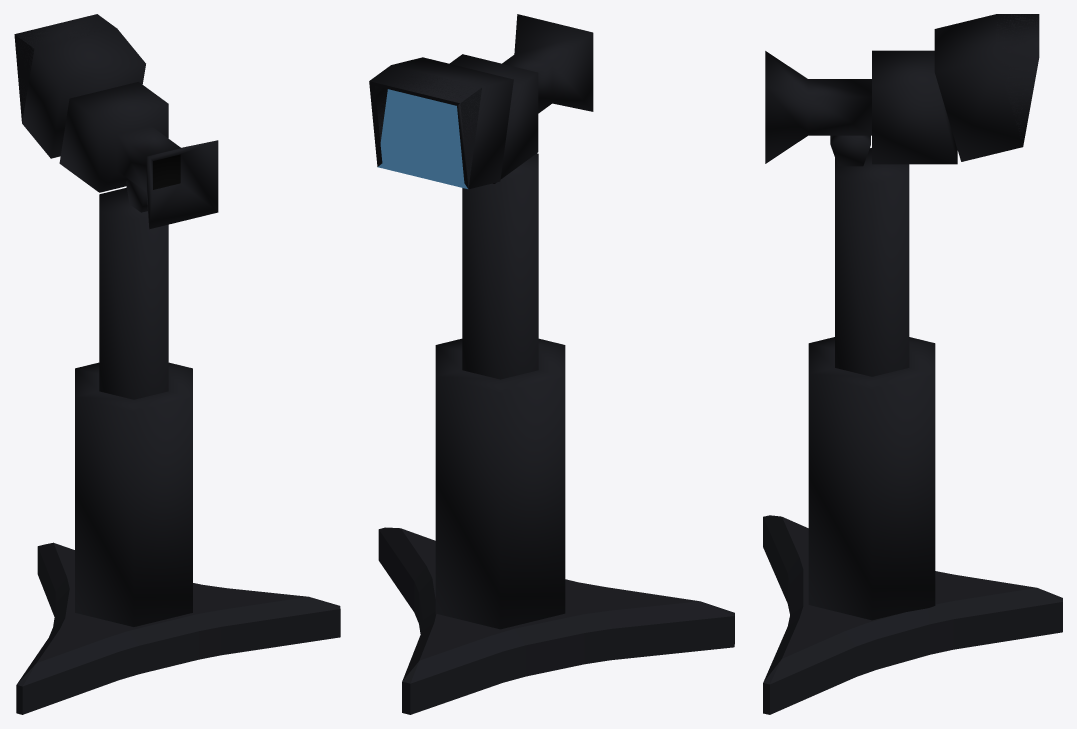
Rendered from TVCamera.fbx.
3 views of the same model, side by side, from view 1: azimuth 30°, elevation 25°; view 2: azimuth 150°, elevation 25°; view 3: azimuth 270°, elevation 25° (orthographic). The views are drawn at different scales.
Visible parts, largest first — view 1: presOffBlackWall01001Rev.006, presOffBlackWall01001Rev.001, presOffBlackWall01001Rev.004; view 2: presOffBlackWall01001Rev.001, presOffBlackWall01001Rev.006, presOffBlackWall01001Rev.004, presOffBlackWall01001Rev.010; view 3: presOffBlackWall01001Rev.006, presOffBlackWall01001Rev.001, presOffBlackWall01001Rev.004.
Part boxes in pixels (x1,y1,x2,y2): presOffBlackWall01001Rev.006: (14, 14, 218, 399); presOffBlackWall01001Rev.001: (75, 362, 192, 626); presOffBlackWall01001Rev.004: (16, 542, 340, 714); presOffBlackWall01001Rev.001: (435, 338, 565, 629); presOffBlackWall01001Rev.006: (369, 14, 593, 379); presOffBlackWall01001Rev.004: (378, 527, 734, 714); presOffBlackWall01001Rev.010: (377, 89, 467, 188); presOffBlackWall01001Rev.006: (765, 14, 1039, 376); presOffBlackWall01001Rev.001: (808, 337, 935, 620); presOffBlackWall01001Rev.004: (763, 515, 1062, 714).
Size of the model in its own units: 1.5 by 2.46 by 1.12.
